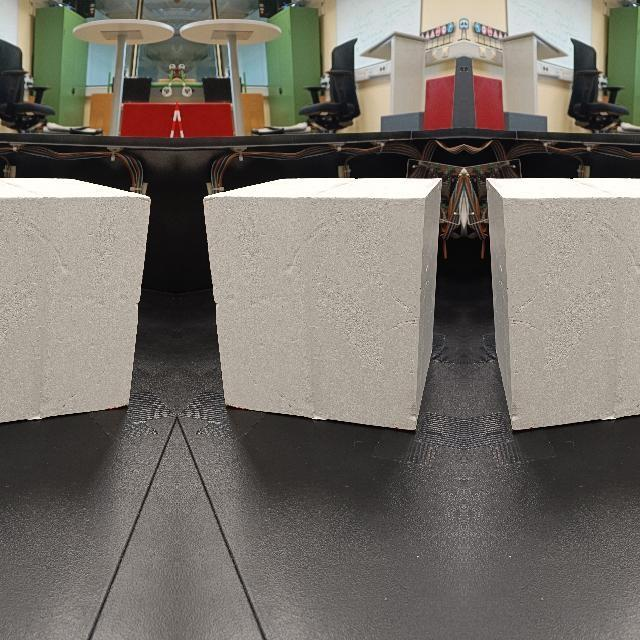obstacle: (198, 173, 444, 437), (483, 173, 640, 437), (0, 173, 154, 437)
